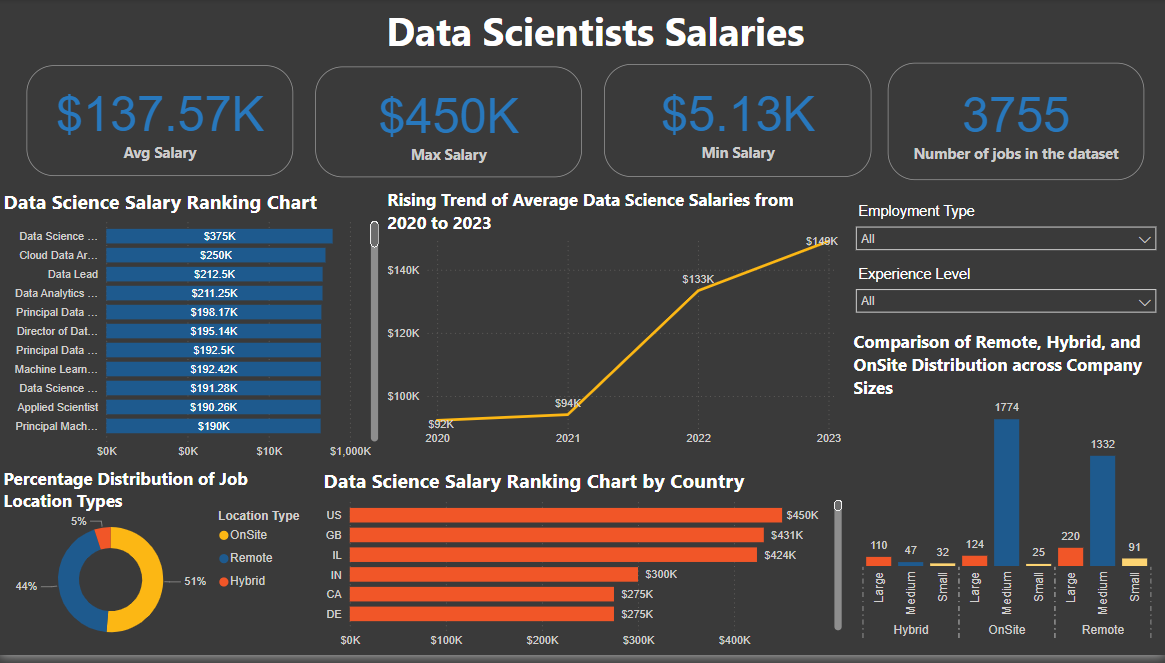

The page's visual inventory and layout, read from the dashboard file:
{"tool":"powerbi","page":{"name":"Page 1","canvas":[1280,720],"ordinal":0},"visuals":[{"type":"textbox","box":[351.3,0,606.5,74.1],"z":0},{"type":"card","fields":{"Values":["ds_salaries.Avg Salary"]},"box":[30,72.5,292.5,121.2],"z":1000},{"type":"card","fields":{"Values":["ds_salaries.Max Salary"]},"box":[347.5,73.8,292.5,121.2],"z":2000},{"type":"card","fields":{"Values":["ds_salaries.Min Salary"]},"box":[663.8,71.2,293.8,123.8],"z":3000},{"type":"barChart","title":"Data Science Salary Ranking Chart","fields":{"Category":["ds_salaries.job_title"],"Y":["ds_salaries.Avg Salary"]},"box":[0,207.1,421.4,305.7],"z":4000},{"type":"slicer","fields":{"Values":["ds_salaries.experience_level"]},"box":[930,288.8,350,75],"z":5000},{"type":"slicer","fields":{"Values":["ds_salaries.employment_type"]},"box":[930,220,350,75],"z":6000},{"type":"donutChart","title":"Percentage Distribution of Job Location Types","fields":{"Category":["ds_salaries.Location Type"],"Y":["Sum(ds_salaries.remote_ratio)"]},"box":[0,512.9,351.4,207.1],"z":7000},{"type":"lineChart","title":"Rising Trend of Average Data Science Salaries from 2020 to 2023","fields":{"Category":["ds_salaries.work_year"],"Y":["ds_salaries.Avg Salary"]},"box":[421.4,207.1,508.6,291.4],"z":8000},{"type":"card","fields":{"Values":["ds_salaries.Number of job"]},"box":[976.2,70,281.2,128.8],"z":9000},{"type":"clusteredColumnChart","title":"Comparison of Remote, Hybrid, and OnSite Distribution across Company Sizes","fields":{"Category":["ds_salaries.Location Type","ds_salaries.company_size"],"Y":["CountNonNull(ds_salaries.remote_ratio)"]},"box":[932.9,364.3,347.1,350],"z":10000},{"type":"barChart","title":"Data Science Salary Ranking Chart by Country","fields":{"Y":["ds_salaries.Max Salary"],"Category":["ds_salaries.company_location"]},"box":[351,513,579,207],"z":11000}]}

Visuals, with their boxes in screenshot pixels (x1, y1, x2, y2), scaled from the page's 1280x720 canvas onto the 1165x663 screenshot:
textbox: select_region(320, 0, 872, 68)
card - ds_salaries.Avg Salary: select_region(27, 67, 294, 178)
card - ds_salaries.Max Salary: select_region(316, 68, 582, 180)
card - ds_salaries.Min Salary: select_region(604, 66, 872, 180)
"Data Science Salary Ranking Chart" barChart: select_region(0, 191, 384, 472)
slicer - ds_salaries.experience_level: select_region(846, 266, 1164, 335)
slicer - ds_salaries.employment_type: select_region(846, 203, 1164, 272)
"Percentage Distribution of Job Location Types" donutChart: select_region(0, 472, 320, 662)
"Rising Trend of Average Data Science Salaries from 2020 to 2023" lineChart: select_region(384, 191, 846, 459)
card - ds_salaries.Number of job: select_region(888, 64, 1144, 183)
"Comparison of Remote, Hybrid, and OnSite Distribution across Company Sizes" clusteredColumnChart: select_region(849, 335, 1164, 658)
"Data Science Salary Ranking Chart by Country" barChart: select_region(319, 472, 846, 662)
